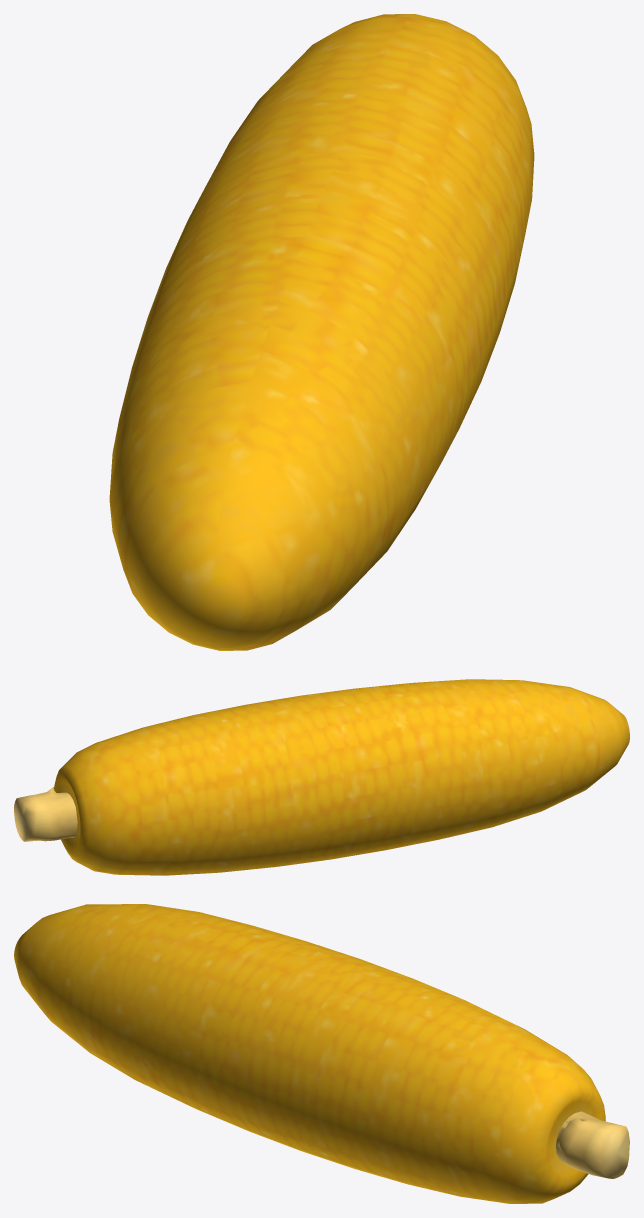
The model's file is BFSweetCorn.glb.
3 renders of one model, top to bottom at view 1: azimuth 30°, elevation 25°; view 2: azimuth 150°, elevation 25°; view 3: azimuth 270°, elevation 25°, orthographic. The views are drawn at different scales.
Parts seen in each view (by area): view 1: yumi; view 2: yumi; view 3: yumi.
Boxes of the visible parts, x1=… form: yumi: x1=109, y1=14, x2=534, y2=650; yumi: x1=14, y1=679, x2=629, y2=875; yumi: x1=14, y1=904, x2=629, y2=1203.
Bounding box in the file's own units: 1.7 × 0.6376 × 1.95.
Materials: 1 (1 with a texture image).
